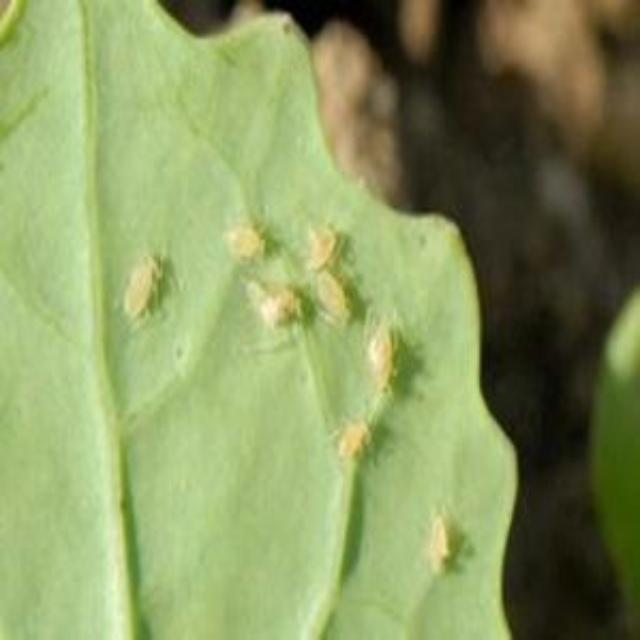Green peach aphid: (102, 222, 200, 342), (282, 238, 366, 334), (300, 396, 390, 484), (232, 266, 314, 348), (346, 308, 416, 402), (204, 188, 278, 272), (295, 186, 359, 282), (406, 501, 472, 593)
